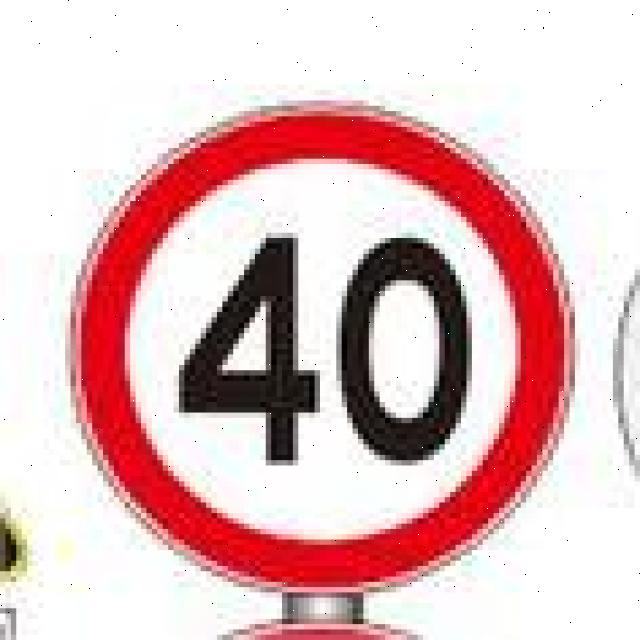speed limit 40: (66, 102, 576, 595)
